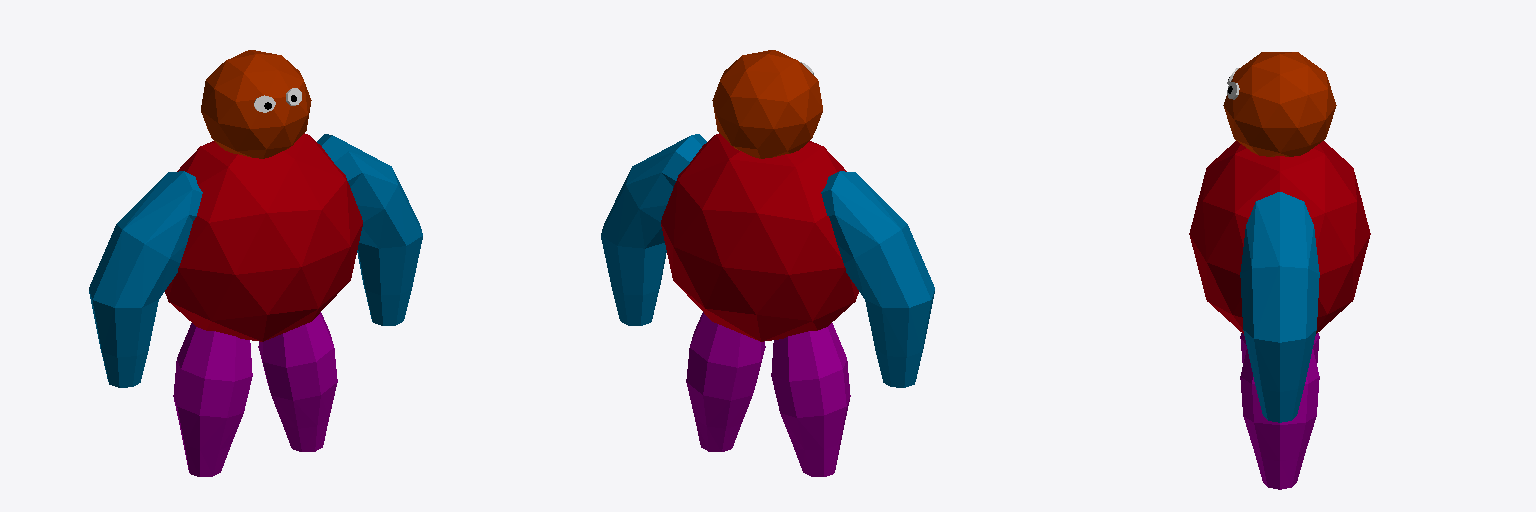
The model's file is bigboi_rigged.obj.
The picture shows the model from 3 angles: view 1: azimuth 30°, elevation 25°; view 2: azimuth 150°, elevation 25°; view 3: azimuth 270°, elevation 25°; orthographic projection.
Visible parts, largest first — view 1: Cube; view 2: Cube; view 3: Cube.
Boxes of the visible parts, x1=… form: Cube: x1=89, y1=50, x2=422, y2=476; Cube: x1=601, y1=50, x2=934, y2=476; Cube: x1=1189, y1=52, x2=1370, y2=489.
Bounding box in the file's own units: 6.66 × 7.86 × 3.2.